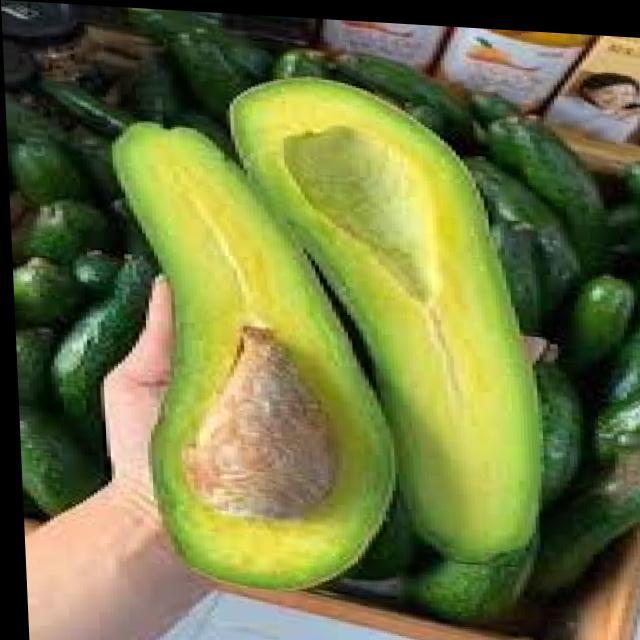Bo: (219, 57, 548, 573), (76, 108, 388, 592)
